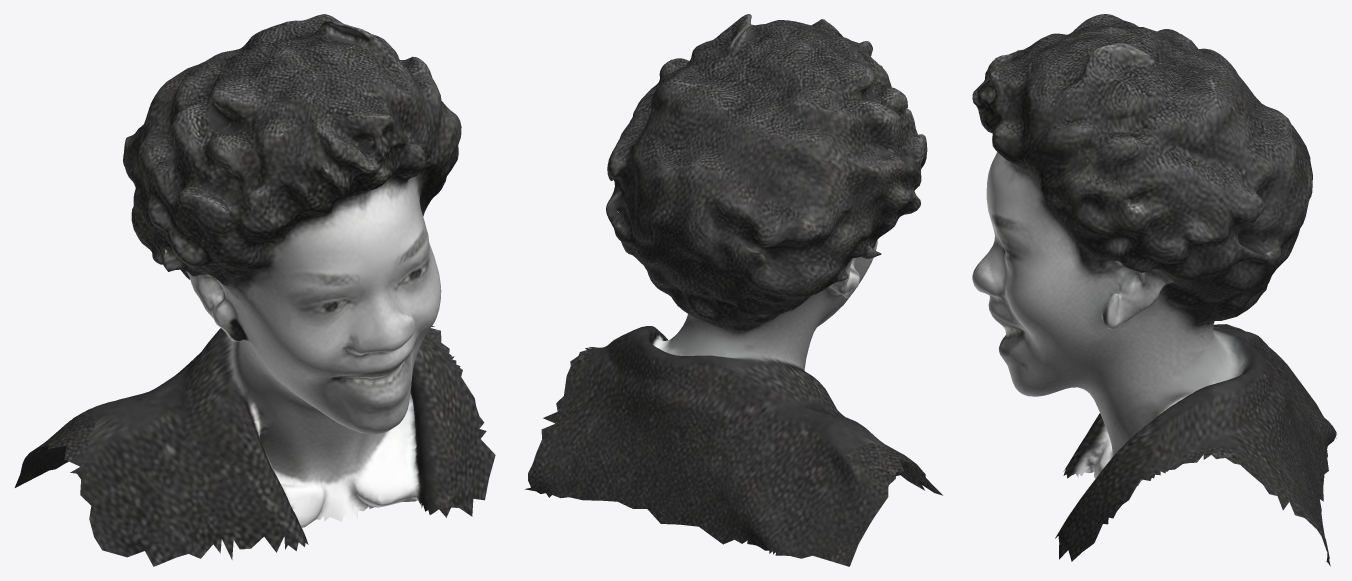
Rendered from althea_gibson_face.glb.
3 views of the same model, side by side, from view 1: azimuth 30°, elevation 25°; view 2: azimuth 150°, elevation 25°; view 3: azimuth 270°, elevation 25° (orthographic). The views are drawn at different scales.
Visible parts, largest first — view 1: AltheaGibsonFace; view 2: AltheaGibsonFace; view 3: AltheaGibsonFace.
Part boxes in pixels (x1=…): AltheaGibsonFace: x1=14, y1=14, x2=495, y2=566; AltheaGibsonFace: x1=525, y1=14, x2=942, y2=566; AltheaGibsonFace: x1=972, y1=14, x2=1336, y2=566.
Bounding box in the file's own units: 0.4348 × 0.54 × 0.3808.
Materials: 1 (1 with a texture image).
